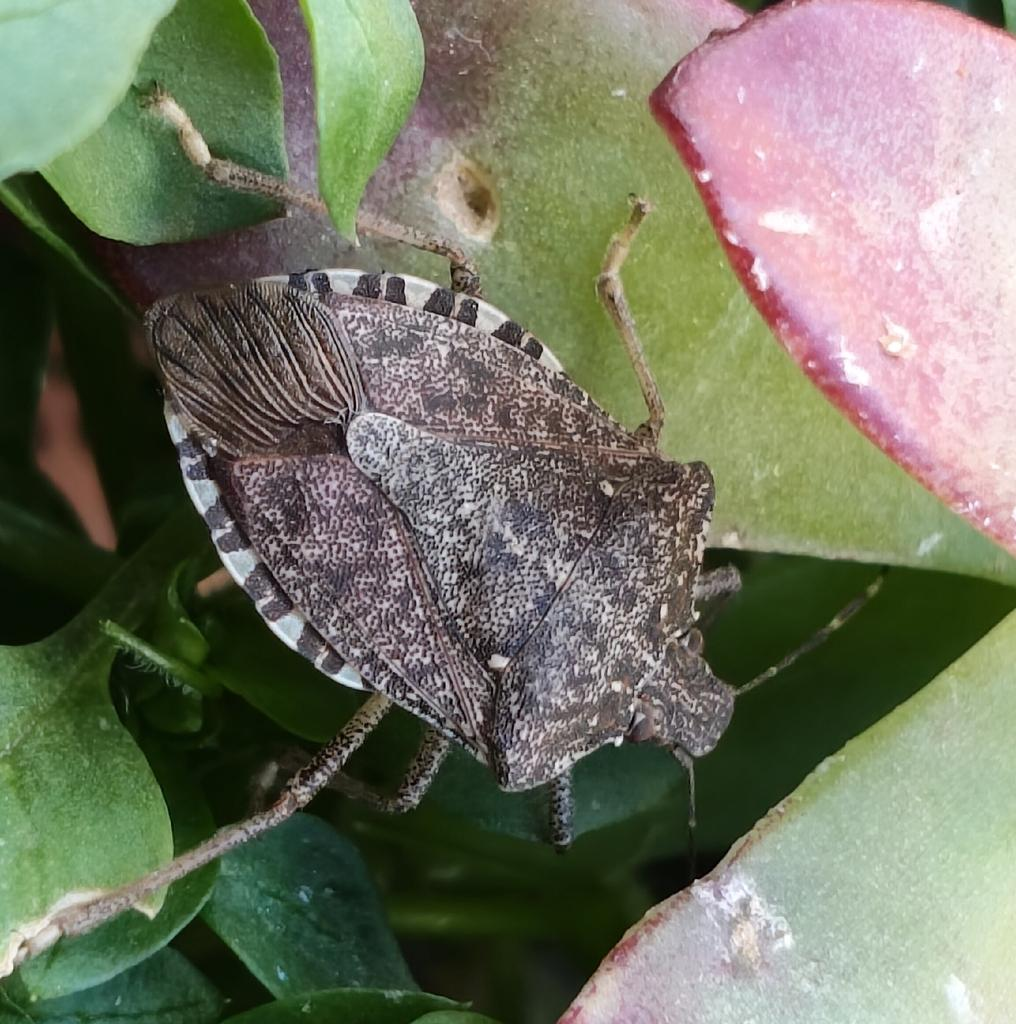stink_bugs: (0, 53, 932, 1024)
